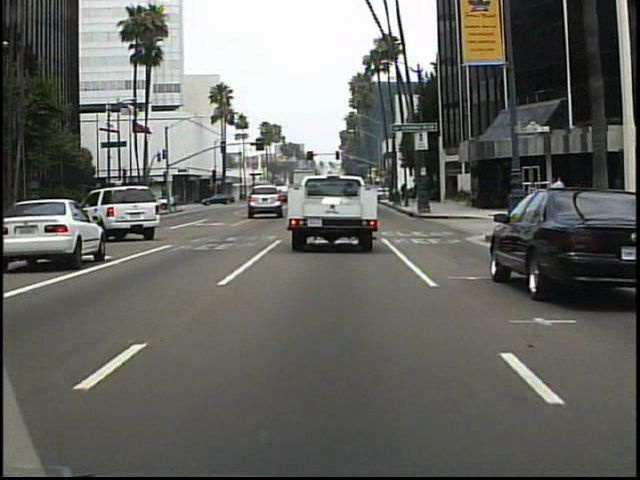person: (551, 173, 568, 213), (175, 189, 176, 214)
